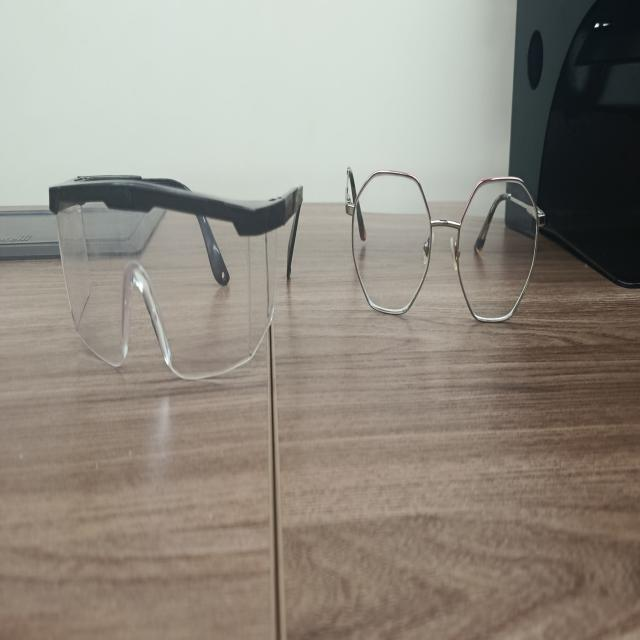oculos-epi: (49, 175, 303, 379)
sem_oculos: (345, 169, 545, 322)
